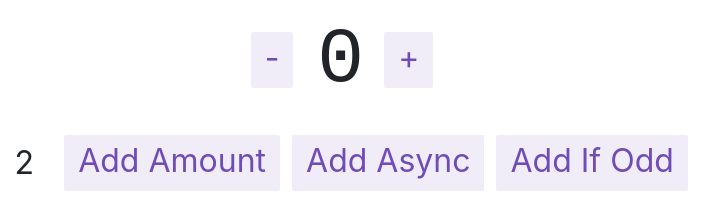
it: Counter › adds only when the value is odd
Click the button "Add If Odd": x=592, y=163 [496,135,688,191]
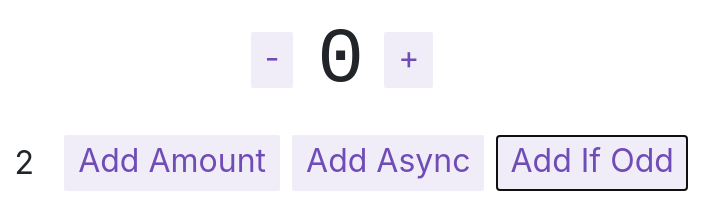
Expected: the text "0" is shown, [317,16,364,104]
Click the button named "Increment value": x=409, y=60 [384,32,433,88]
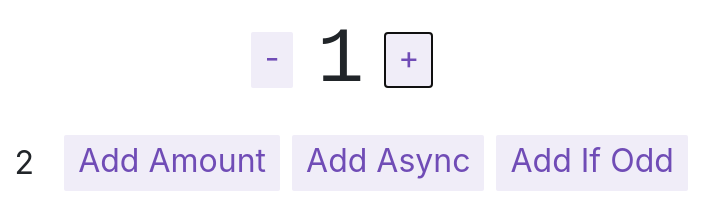
Click the button "Add If Odd": x=592, y=163 [496,135,688,191]
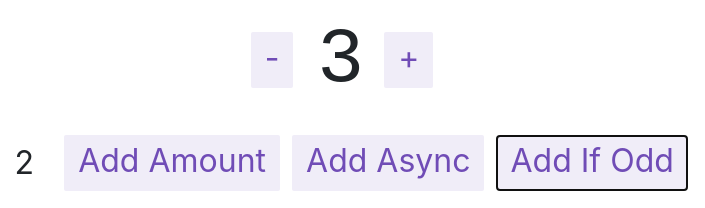
Result: the text "3" is shown at [317,16,364,104]
